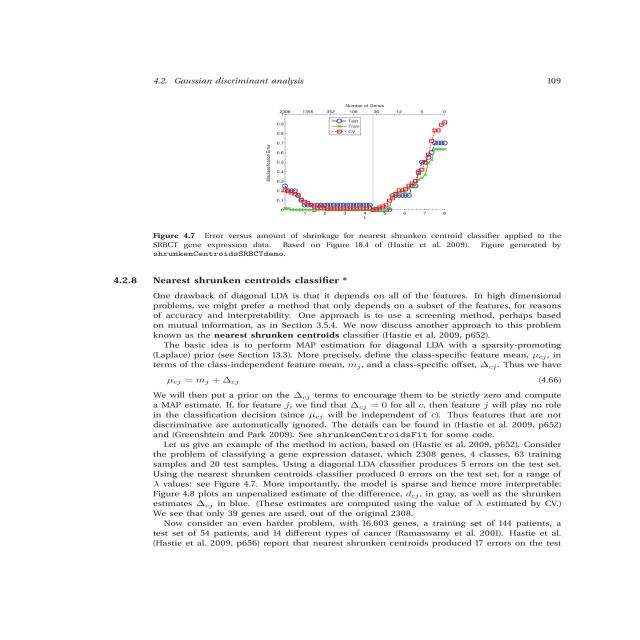diagram: (116, 56, 574, 270)
